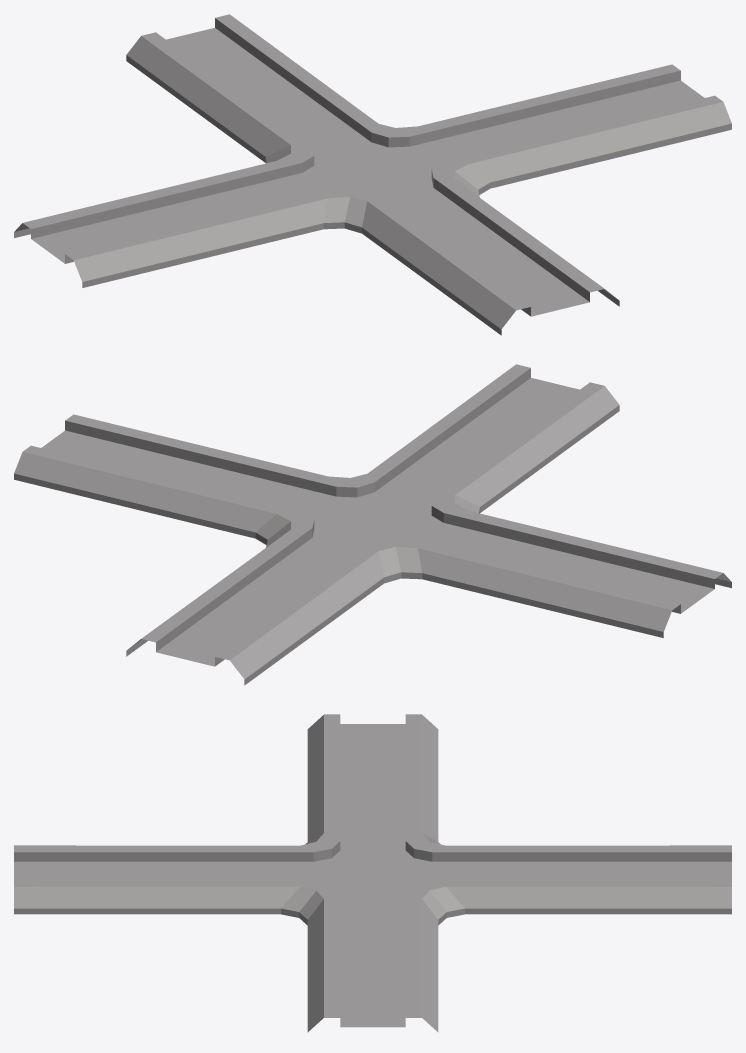
The model's file is FloorRailCrossSection.fbx.
3 renders of one model, top to bottom at view 1: azimuth 30°, elevation 25°; view 2: azimuth 150°, elevation 25°; view 3: azimuth 270°, elevation 25°, orthographic. The views are drawn at different scales.
Visible parts, largest first — view 1: FloorRailCrossSection; view 2: FloorRailCrossSection; view 3: FloorRailCrossSection.
Part boxes in pixels (bbox=[...]): FloorRailCrossSection: bbox=[14, 14, 731, 335]; FloorRailCrossSection: bbox=[14, 364, 731, 685]; FloorRailCrossSection: bbox=[14, 714, 731, 1032].
Bounding box in the file's own units: 220 × 7.01 × 220.
